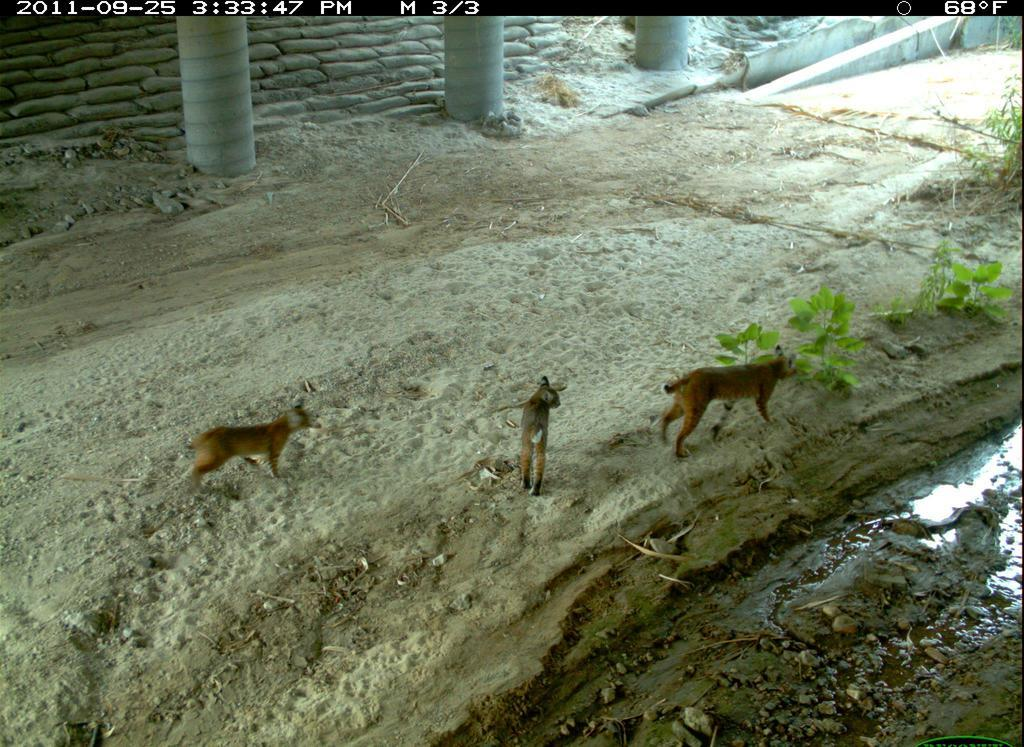bobcat: (653, 339, 809, 467), (176, 395, 329, 500), (503, 356, 578, 503)
